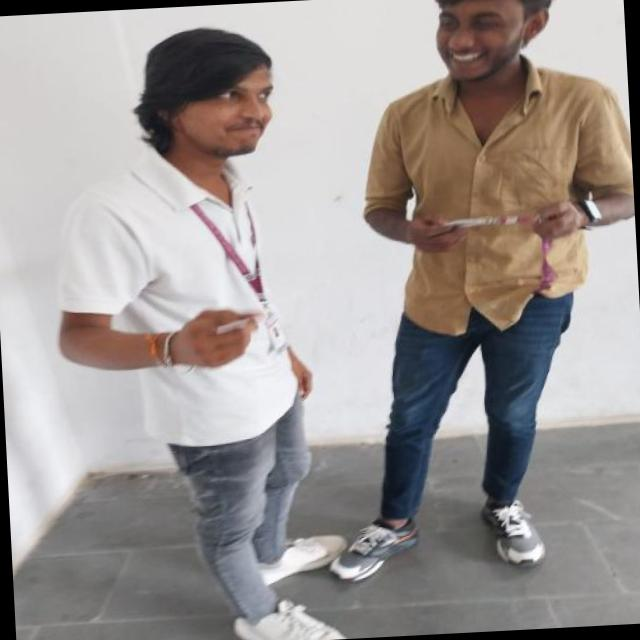id_card: (198, 187, 292, 358), (448, 200, 572, 298)
